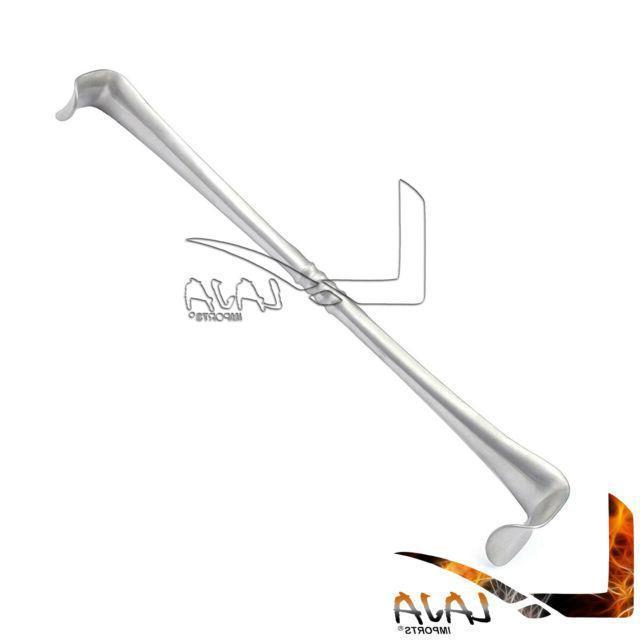Richardson: (50, 64, 575, 570)
